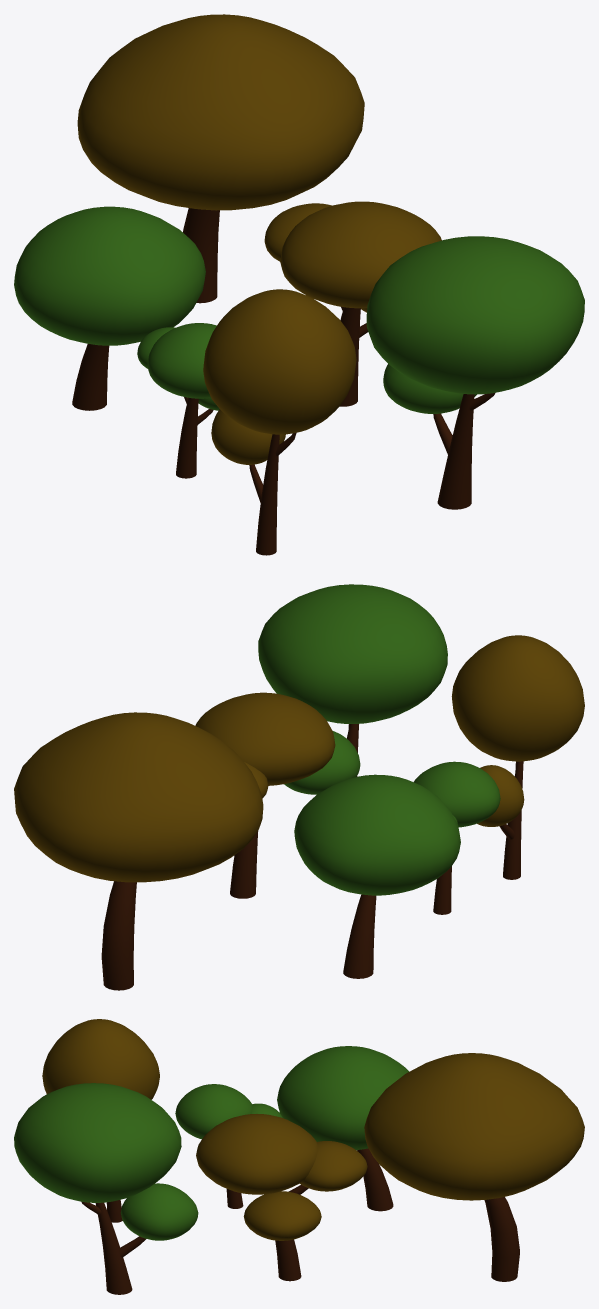
File: trees level 2.FBX
3 views of the same model, one above another, from view 1: azimuth 30°, elevation 25°; view 2: azimuth 150°, elevation 25°; view 3: azimuth 270°, elevation 25° (orthographic). The views are drawn at different scales.
Visible parts, largest first — view 1: big tree001, long tree001, big tree, long tree, smol tree001, smol tree; view 2: big tree001, long tree001, big tree, long tree, smol tree001, smol tree; view 3: big tree001, long tree001, smol tree001, big tree, long tree, smol tree.
Boxes of the visible parts, x1,y1,x2,y2 form: big tree001: [77, 14, 364, 303]; long tree001: [366, 236, 584, 509]; big tree: [14, 206, 205, 410]; long tree: [203, 289, 356, 555]; smol tree001: [264, 201, 441, 406]; smol tree: [137, 323, 219, 478]; big tree001: [14, 712, 263, 990]; long tree001: [258, 584, 447, 794]; big tree: [294, 774, 460, 978]; long tree: [451, 635, 584, 879]; smol tree001: [195, 692, 335, 898]; smol tree: [414, 761, 500, 914]; big tree001: [364, 1053, 584, 1281]; long tree001: [14, 1083, 198, 1294]; smol tree001: [196, 1114, 367, 1281]; big tree: [277, 1046, 409, 1211]; long tree: [42, 1019, 159, 1222]; smol tree: [175, 1084, 282, 1208].
Bounding box in the file's own units: 393 × 280 × 632.
